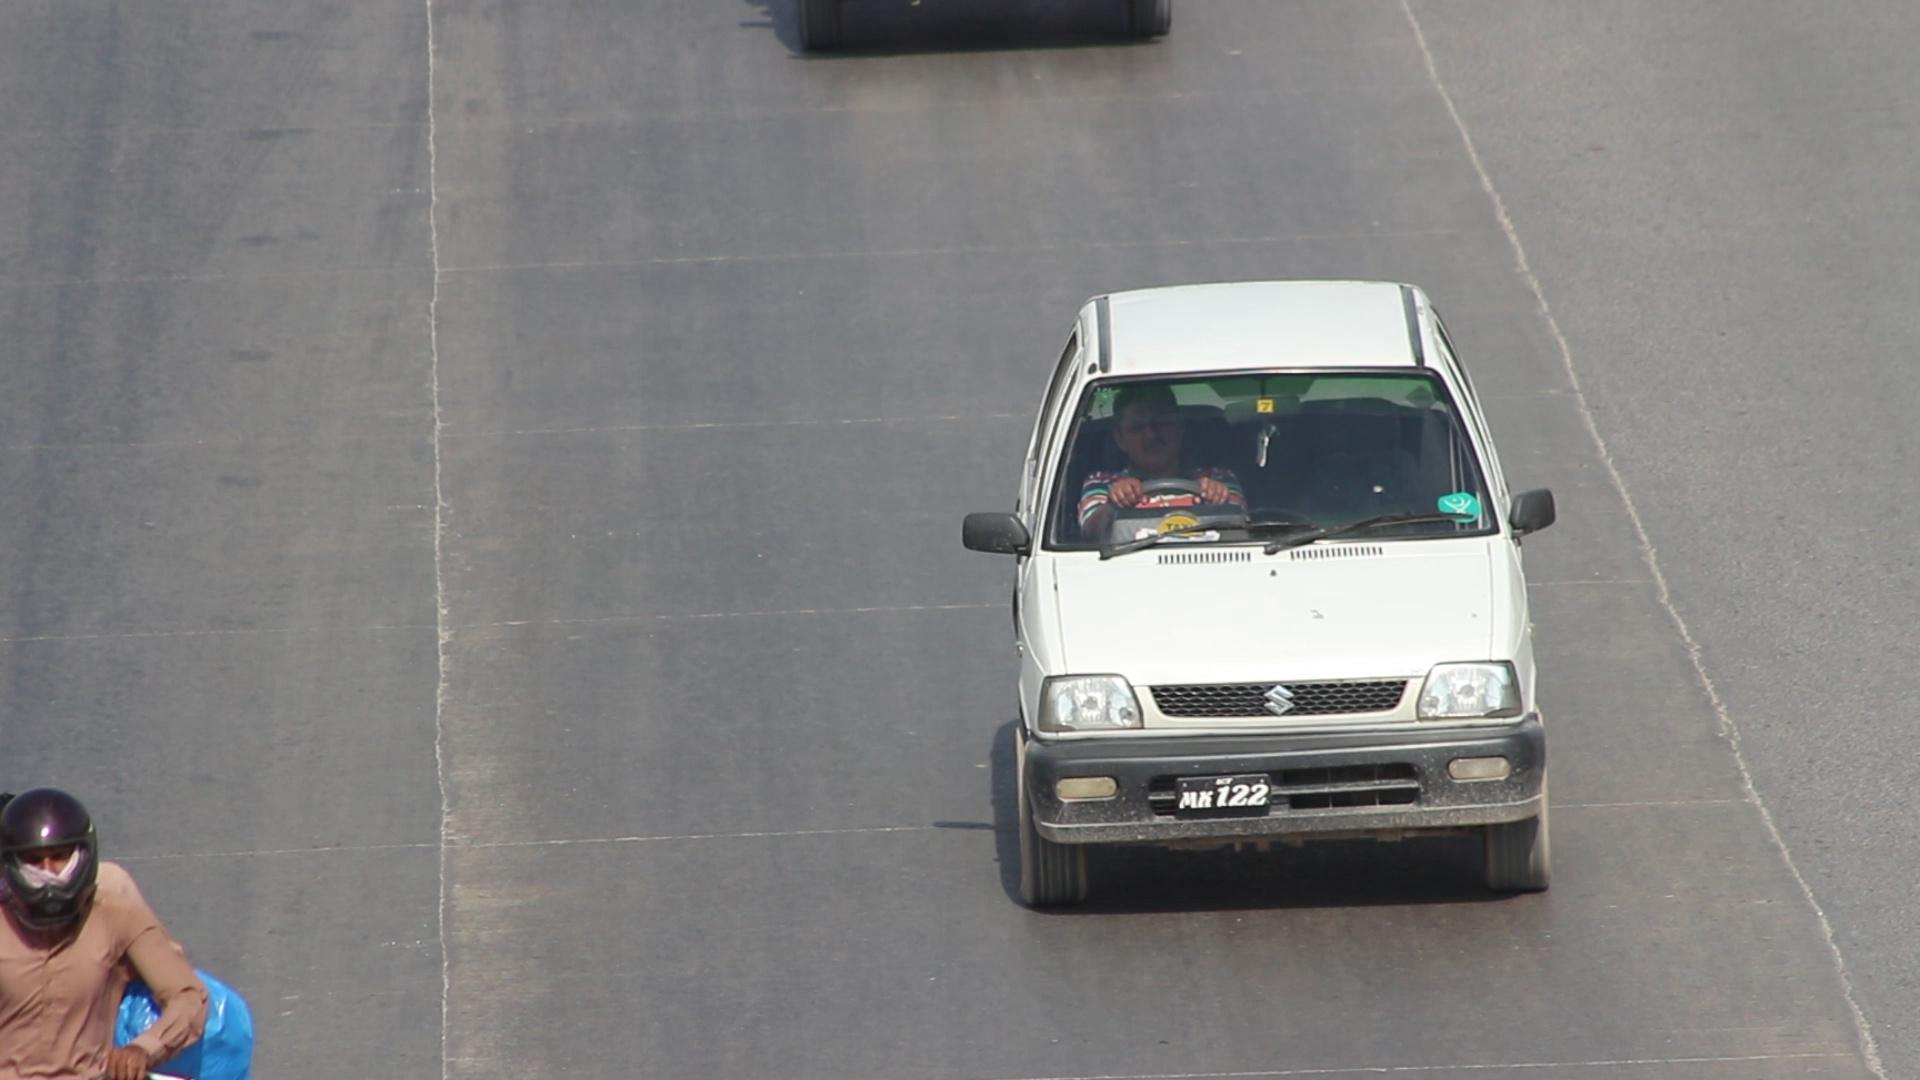windshield: (1023, 327, 1523, 576)
